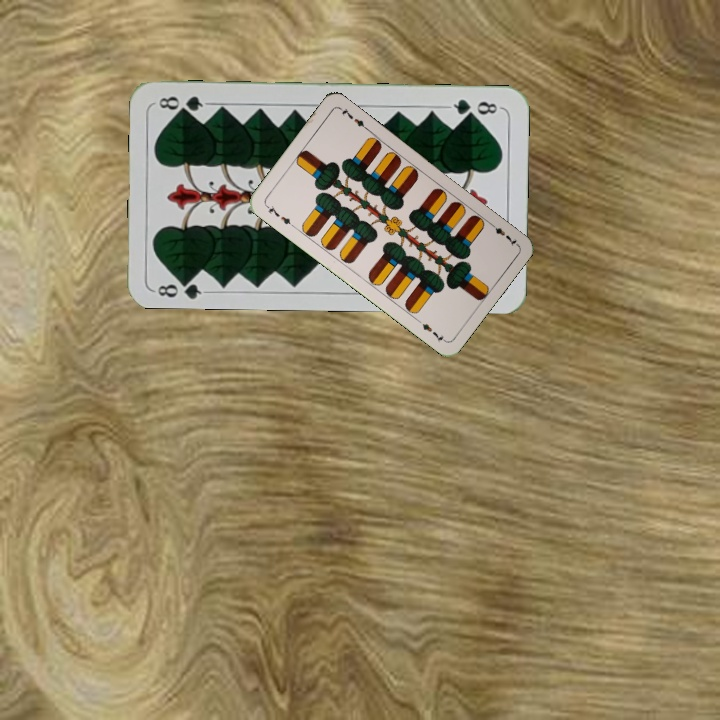E7: (485, 218, 520, 249), (262, 201, 296, 230)
G8: (151, 273, 210, 300), (444, 95, 503, 119)
